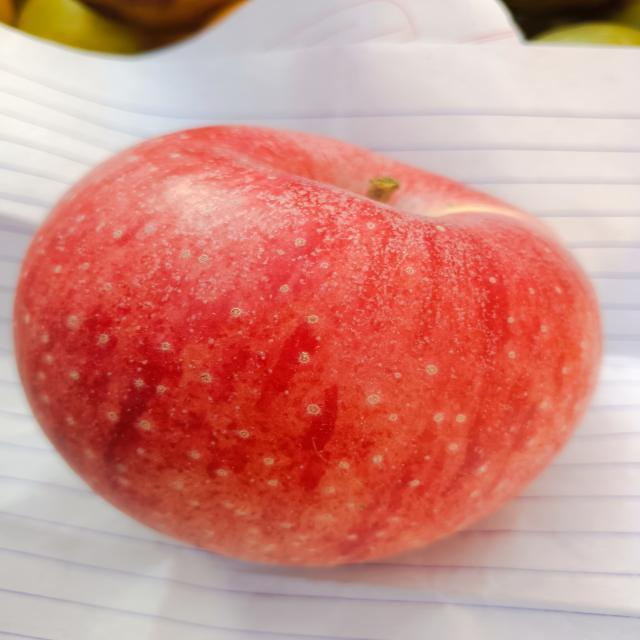Fresh Apple: (30, 126, 593, 572)
